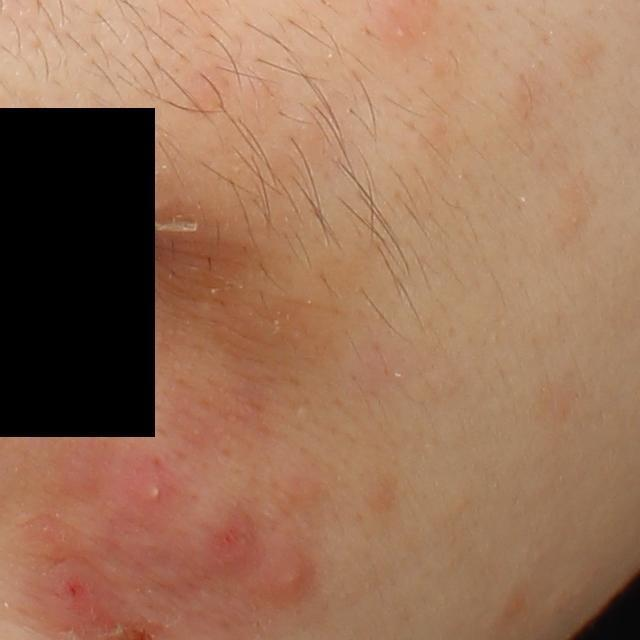papule: (203, 515, 265, 574), (263, 548, 315, 606), (24, 513, 77, 559)
